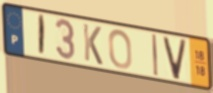3: (53, 18, 76, 63)
I: (37, 13, 46, 58), (151, 33, 160, 78)
K: (82, 22, 104, 68)
O: (107, 28, 134, 71)
V: (161, 35, 188, 82)
